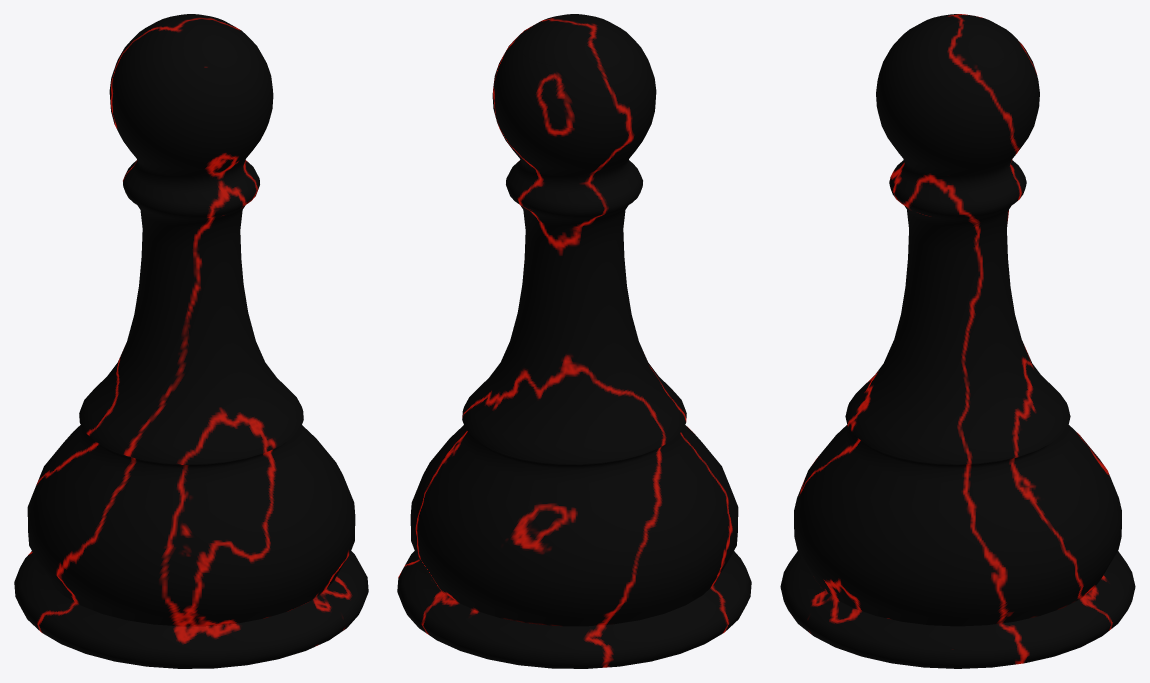
File: BlackPawn.glb
The picture shows the model from 3 angles, left to right: view 1: azimuth 30°, elevation 25°; view 2: azimuth 150°, elevation 25°; view 3: azimuth 270°, elevation 25°; orthographic projection.
Visible parts, largest first — view 1: Pawn; view 2: Pawn; view 3: Pawn.
Boxes of the visible parts, x1,y1,x2,y2 form: Pawn: (14, 14, 368, 668); Pawn: (397, 14, 751, 668); Pawn: (780, 14, 1135, 668).
Size of the model in its own units: 0.1555 by 0.2804 by 0.1555.
1 material, 1 textured.
